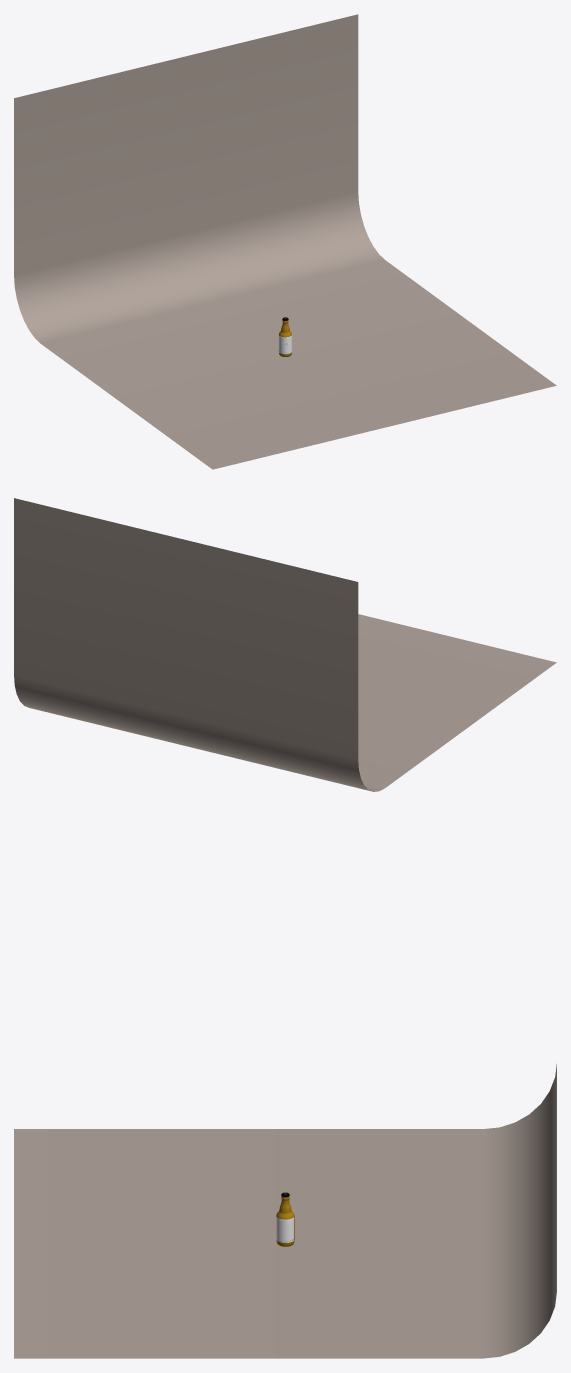
The model's file is Gingerale3dBottle.glb.
The picture shows the model from 3 angles, top to bottom: view 1: azimuth 30°, elevation 25°; view 2: azimuth 150°, elevation 25°; view 3: azimuth 270°, elevation 25°; orthographic projection. The views are drawn at different scales.
Visible parts, largest first — view 1: bg; view 2: bg; view 3: bg.
Part boxes in pixels (x1,y1,x2,y2): bg: [14, 14, 556, 469]; bg: [14, 498, 556, 791]; bg: [14, 1064, 556, 1358].
Bounding box in the file's own units: 28.73 × 18.03 × 28.73.
5 materials, 2 textured.
